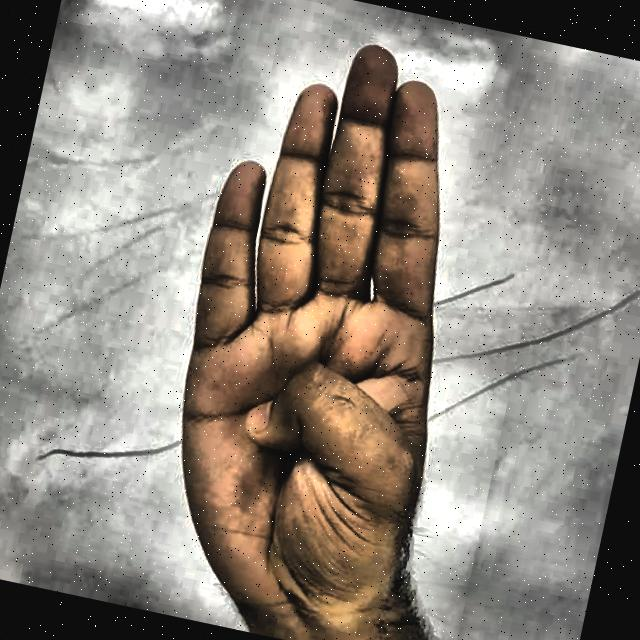Ba: (99, 0, 562, 640)
